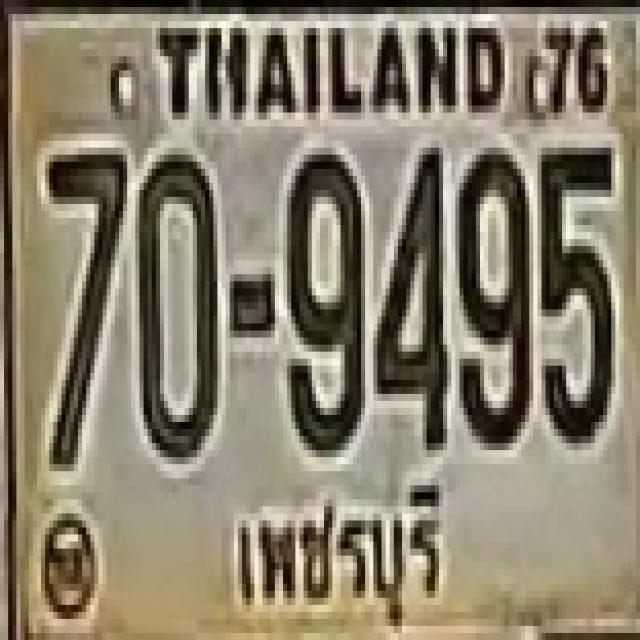0: (137, 148, 215, 457)
4: (373, 141, 443, 443)
5: (538, 141, 612, 436)
7: (45, 144, 123, 461)
9: (283, 148, 361, 450), (456, 141, 525, 443)
PBI: (217, 478, 458, 640)
